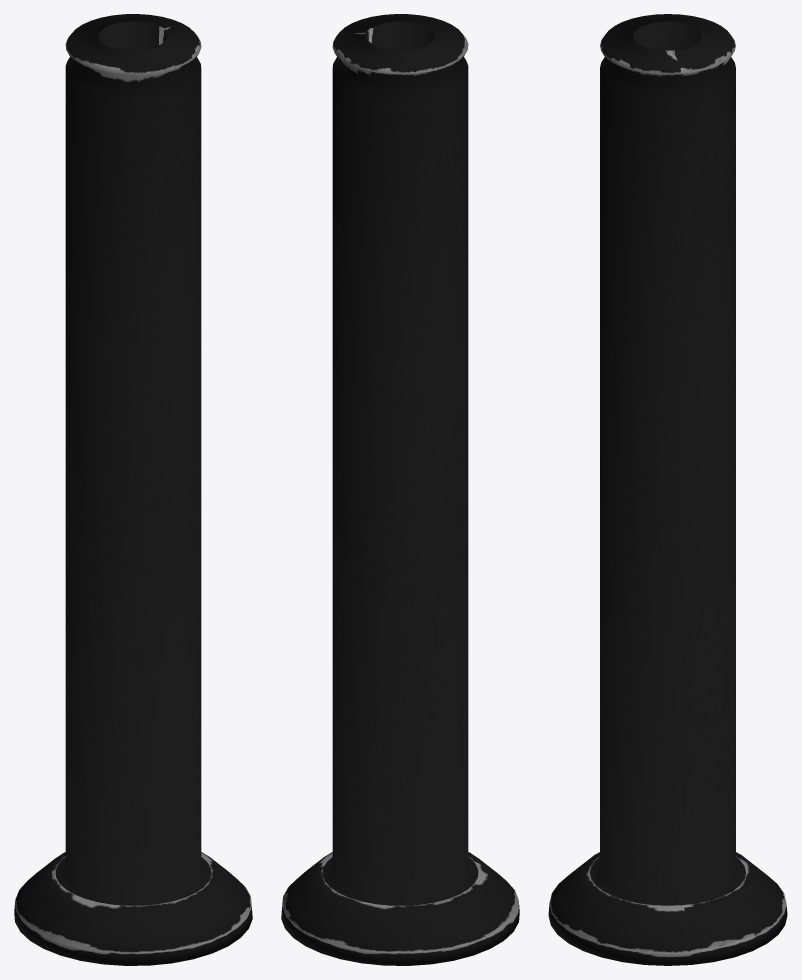
The model's file is button_base_3.fbx.
3 views of the same model, side by side, from view 1: azimuth 30°, elevation 25°; view 2: azimuth 150°, elevation 25°; view 3: azimuth 270°, elevation 25° (orthographic).
Parts seen in each view (by area): view 1: button_pedestal; view 2: button_pedestal; view 3: button_pedestal.
Part boxes in pixels (left/top/right/bottom): button_pedestal: left=14, top=14, right=252, bottom=965; button_pedestal: left=281, top=14, right=519, bottom=965; button_pedestal: left=548, top=14, right=787, bottom=965.
Size of the model in its own units: 0.2195 by 0.8907 by 0.2195.
